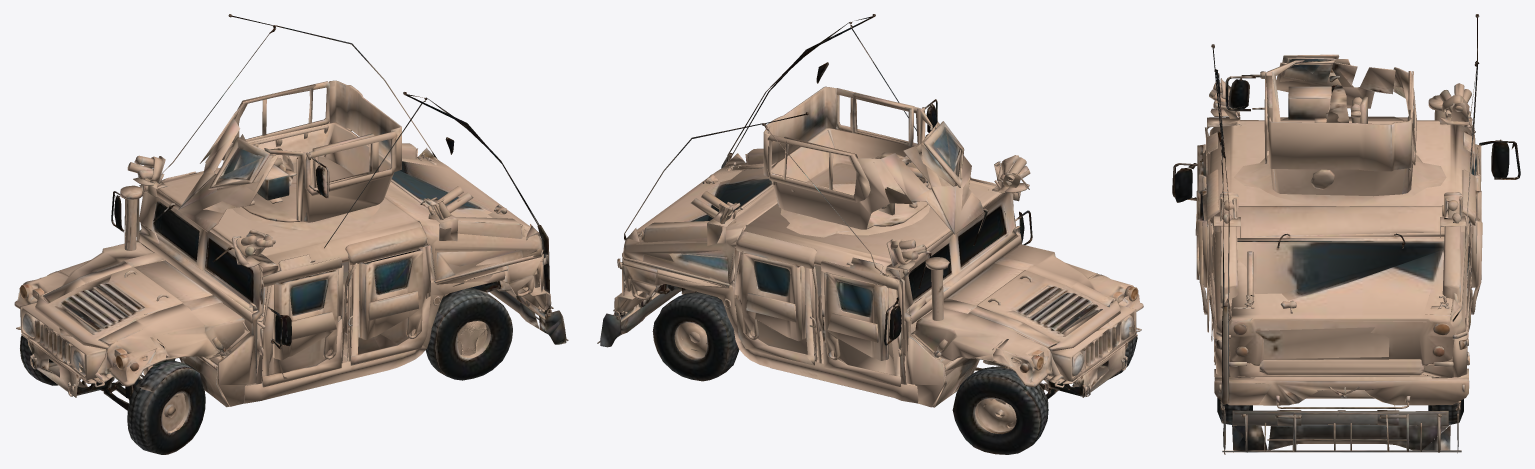
File: humvee.glb
The picture shows the model from 3 angles, left to right: view 1: azimuth 30°, elevation 25°; view 2: azimuth 150°, elevation 25°; view 3: azimuth 270°, elevation 25°; orthographic projection. The views are drawn at different scales.
Size of the model in its own units: 0.9507 by 0.6084 by 0.5684.
Materials: 1 (1 with a texture image).
